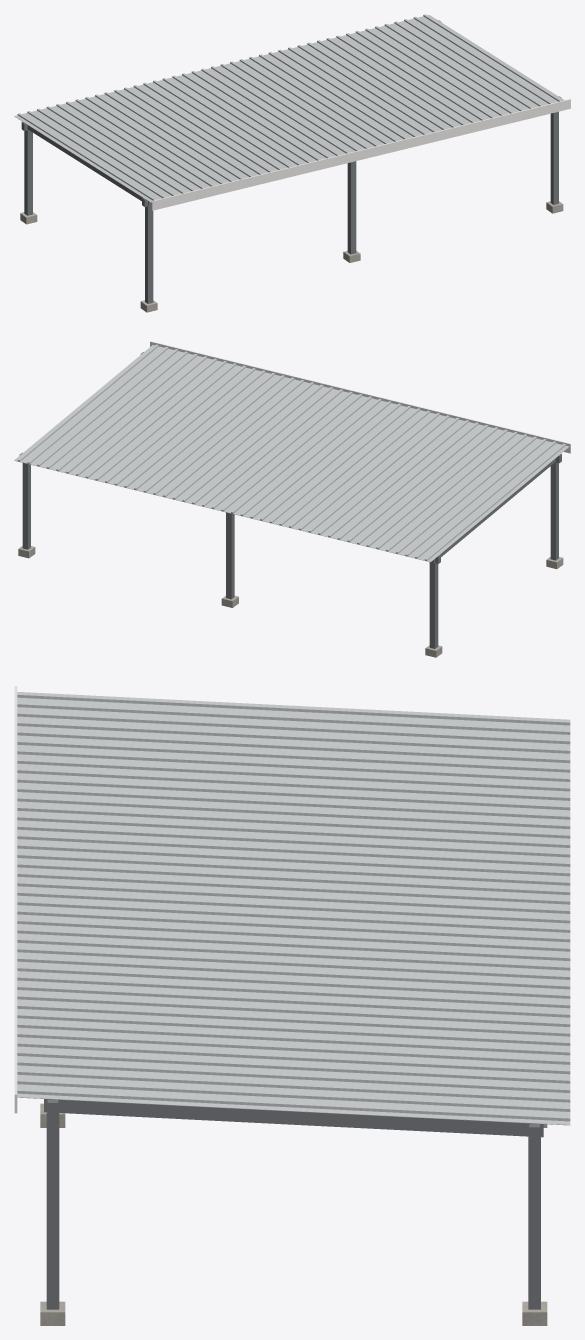
Rendered from carport.glb.
3 renders of one model, top to bottom at view 1: azimuth 30°, elevation 25°; view 2: azimuth 150°, elevation 25°; view 3: azimuth 270°, elevation 25°, orthographic. The views are drawn at different scales.
Visible parts, largest first — view 1: carport_galv, carport_trim, carport_steel_d, carport_concrete; view 2: carport_galv, carport_steel_d, carport_trim, carport_concrete; view 3: carport_galv, carport_steel_d, carport_trim, carport_concrete.
Part boxes in pixels (<box>): carport_galv: <box>14,14,564,202</box>; carport_trim: <box>151,99,570,210</box>; carport_steel_d: <box>21,20,561,303</box>; carport_concrete: <box>20,201,563,312</box>; carport_galv: <box>14,344,569,562</box>; carport_steel_d: <box>19,352,561,648</box>; carport_trim: <box>150,341,570,453</box>; carport_concrete: <box>18,546,563,657</box>; carport_galv: <box>17,692,570,1125</box>; carport_steel_d: <box>44,1099,543,1309</box>; carport_trim: <box>14,686,17,1113</box>; carport_concrete: <box>40,1103,547,1325</box>.
Size of the model in its own units: 10.84 by 2.87 by 6.23.
5 materials, 1 textured.
